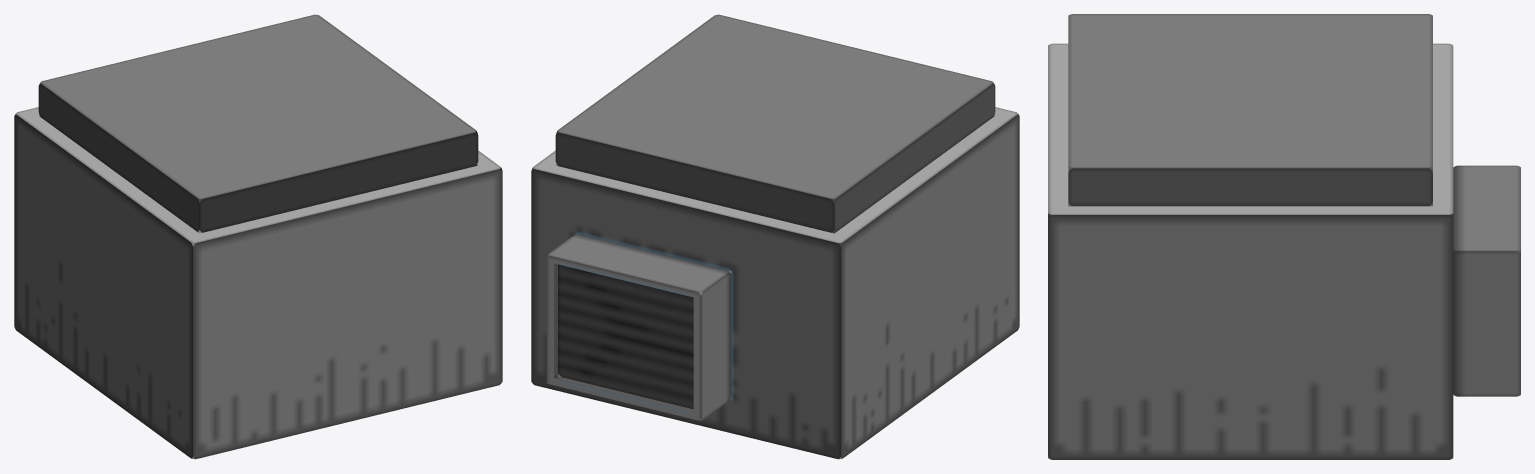
The picture shows the model from 3 angles, left to right: view 1: azimuth 30°, elevation 25°; view 2: azimuth 150°, elevation 25°; view 3: azimuth 270°, elevation 25°; orthographic projection. The views are drawn at different scales.
Visible parts, largest first — view 1: cuboid; view 2: cuboid; view 3: cuboid.
Part boxes in pixels (<box>): cuboid: <box>14,14,502,459</box>; cuboid: <box>531,14,1019,459</box>; cuboid: <box>1048,14,1520,459</box>.
Size of the model in its own units: 75 by 57.81 by 87.5.
1 material, 1 textured.
